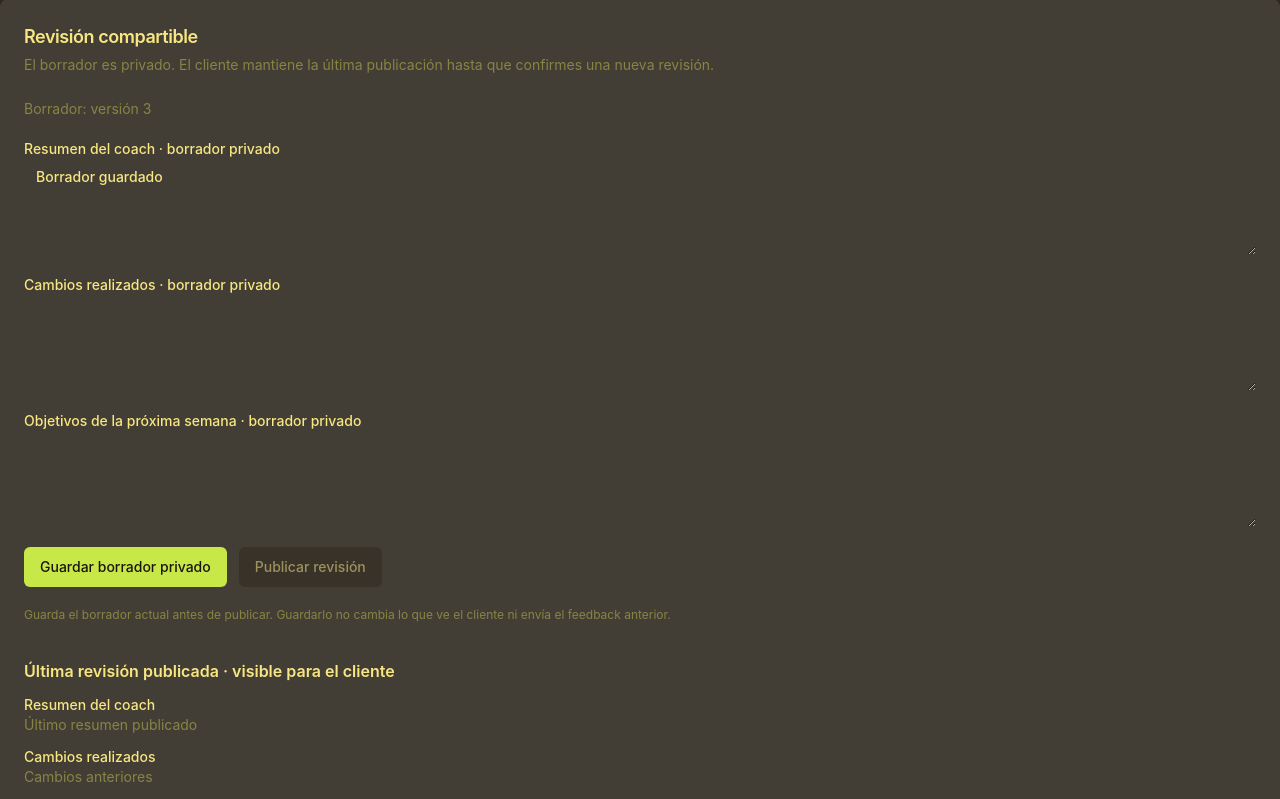
Test: lost publication response freezes commands, keeps old preview and never retries POST
Replace the text in the text box labelled "Resumen del coach · borrador privado" with "Mi revisión nueva" at (640, 207), box [24,159,1256,255]
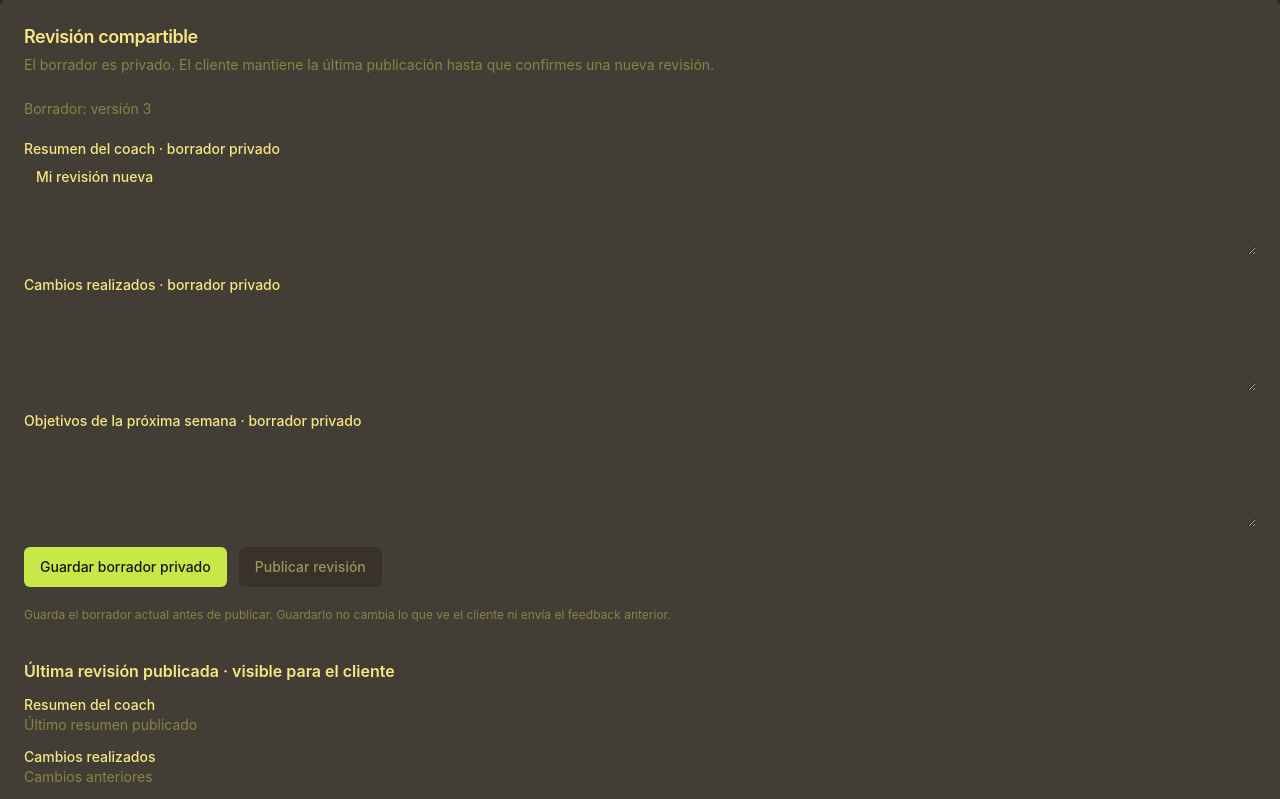
Click the button "Guardar borrador privado" at (125, 567), box [24,547,227,587]
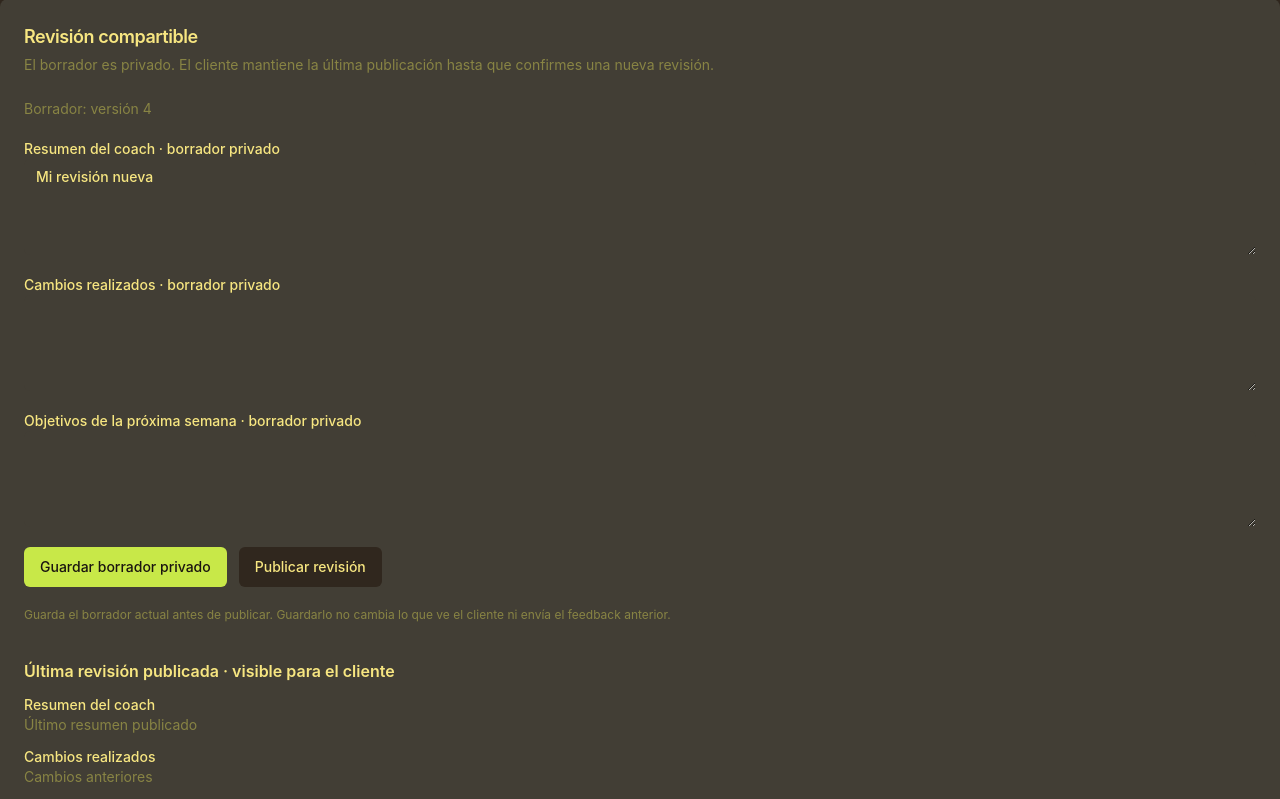
Check: the button "Publicar revisión" is enabled
Click the button "Publicar revisión" at (310, 567), box [239,547,382,587]
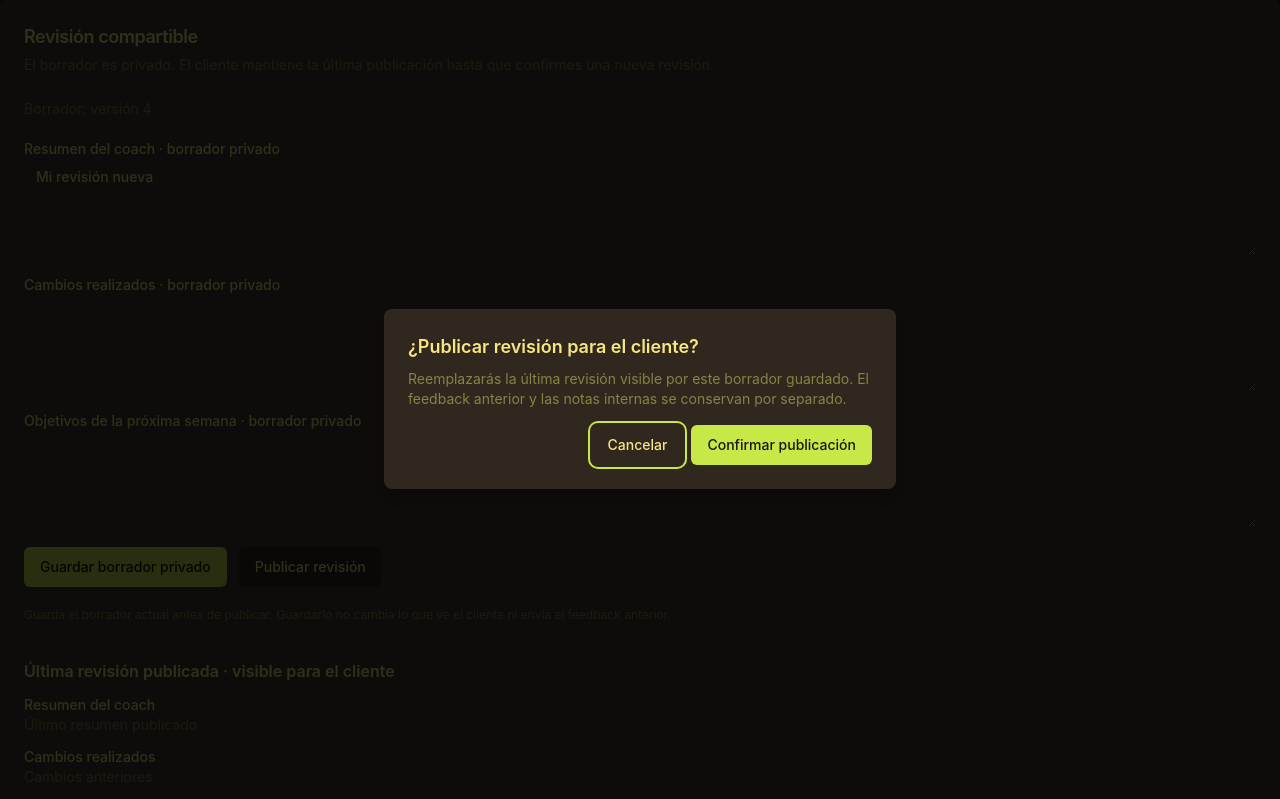
Click the button "Confirmar publicación" at (782, 445), box [691,425,872,465]
(page scrolled)
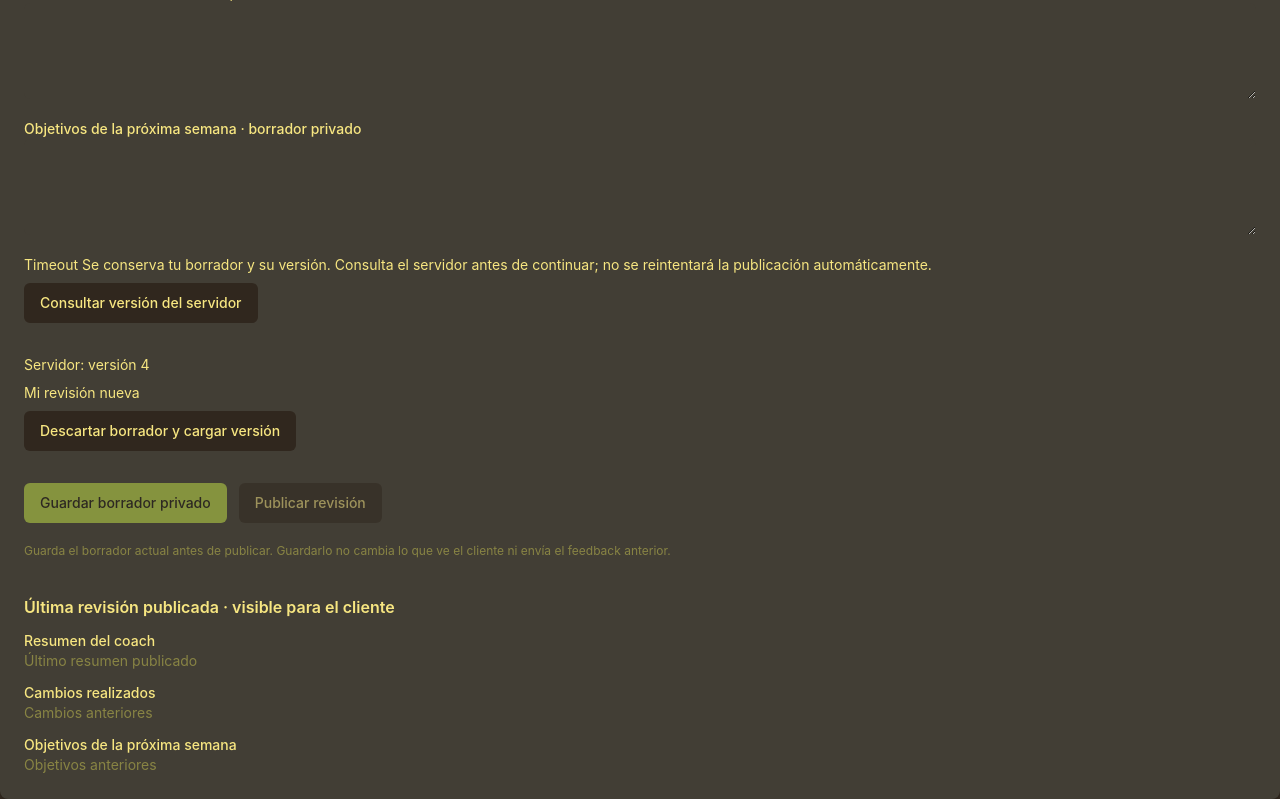
Check: the text "Último resumen publicado" is shown, box [24,652,197,669]
Check: the message shows "Se conserva tu borrador", box [24,256,932,273]
Check: the button "Guardar borrador privado" is disabled, box [24,483,227,523]
